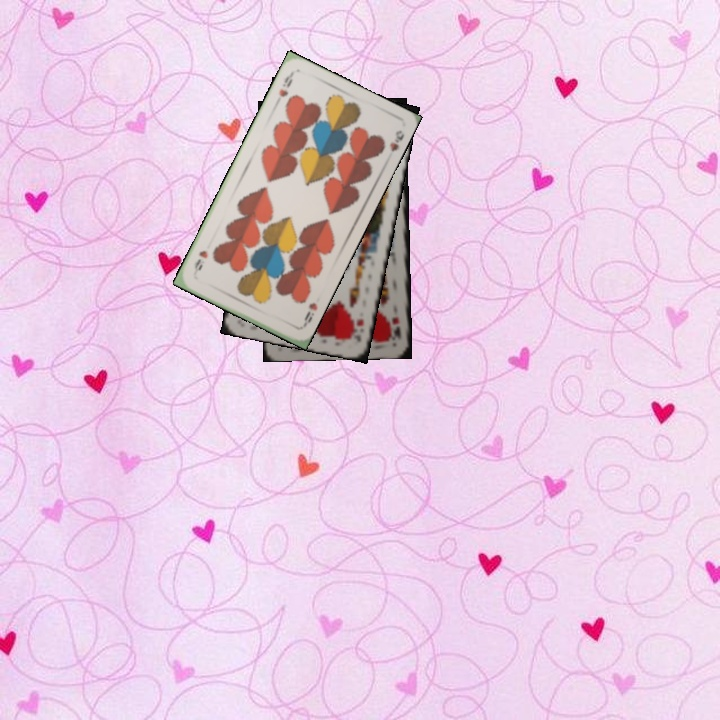H9: (296, 298, 320, 330), (275, 69, 296, 100)
HK: (346, 315, 367, 344), (388, 313, 404, 342)
